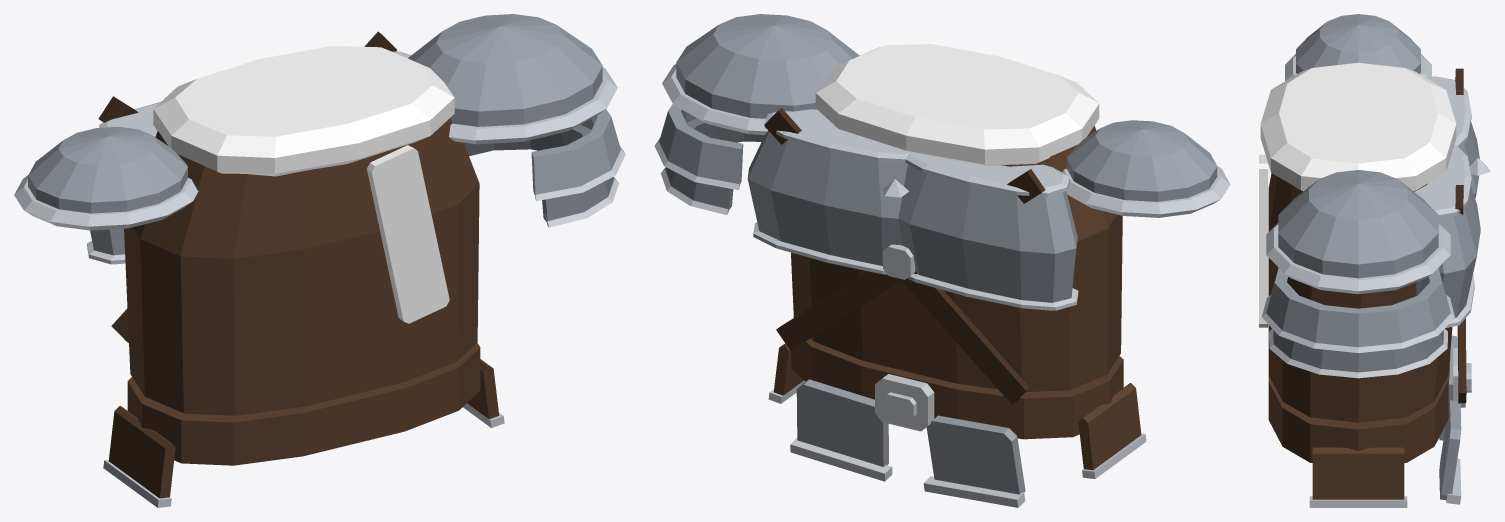
Rendered from look3_armor_dualblade_normal.fbx.
3 renders of one model, left to right at view 1: azimuth 30°, elevation 25°; view 2: azimuth 150°, elevation 25°; view 3: azimuth 270°, elevation 25°, orthographic. The views are drawn at different scales.
Parts seen in each view (by area): view 1: Main, Tasset; view 2: Main, Tasset; view 3: Main, Tasset.
Boxes of the visible parts, left/top/right/bottom form: Main: left=14, top=14, right=625, bottom=465; Tasset: left=103, top=359, right=504, bottom=507; Main: left=654, top=14, right=1230, bottom=439; Tasset: left=768, top=343, right=1146, bottom=507; Main: left=1259, top=14, right=1490, bottom=462; Tasset: left=1309, top=335, right=1461, bottom=507.
Size of the model in its own units: 399 by 260 by 152.
